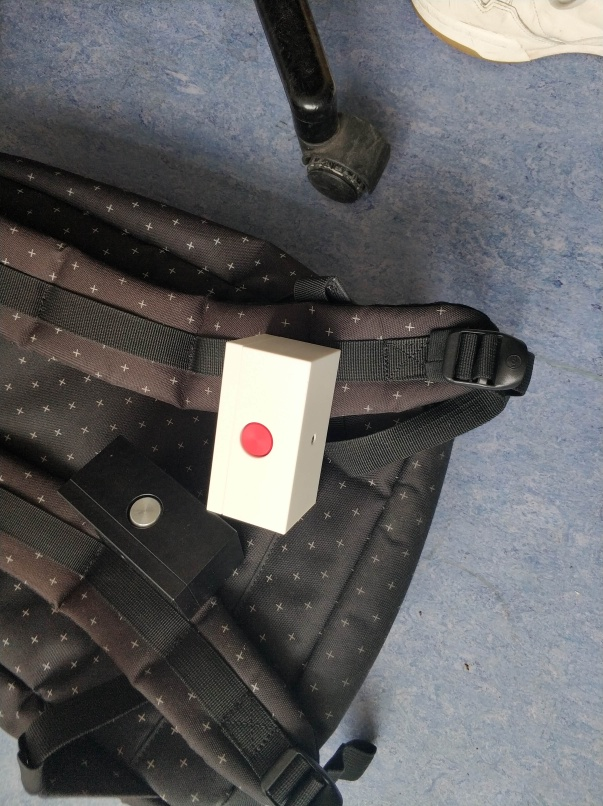black+black+silver: (53, 433, 247, 623)
white+white+red: (201, 328, 349, 539)
